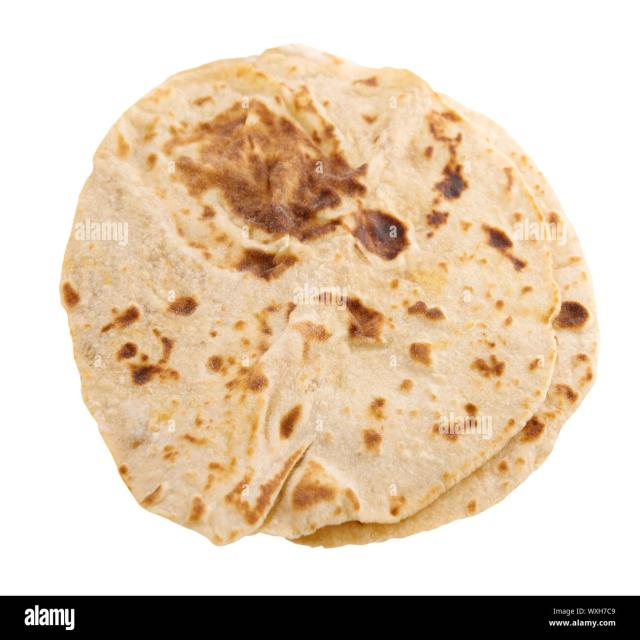ROTI: (61, 50, 579, 543)
